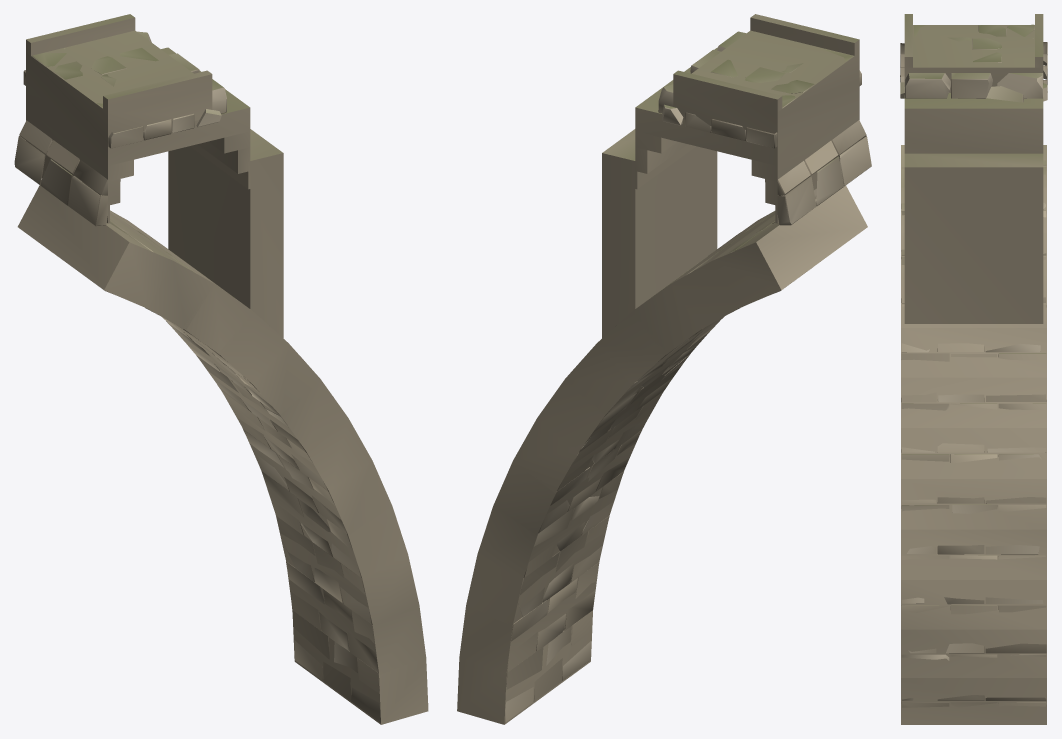
Rendered from bridge_haunch_broken.glb.
3 views of the same model, side by side, from view 1: azimuth 30°, elevation 25°; view 2: azimuth 150°, elevation 25°; view 3: azimuth 270°, elevation 25° (orthographic). The views are drawn at different scales.
Visible parts, largest first — view 1: bridge_haunch_broken_far, bridge_haunch_broken; view 2: bridge_haunch_broken_far, bridge_haunch_broken; view 3: bridge_haunch_broken_far, bridge_haunch_broken.
Part boxes in pixels (<box>): bridge_haunch_broken_far: <box>17,14,428,724</box>; bridge_haunch_broken: <box>14,31,380,722</box>; bridge_haunch_broken_far: <box>457,14,867,724</box>; bridge_haunch_broken: <box>504,31,871,722</box>; bridge_haunch_broken_far: <box>901,14,1046,724</box>; bridge_haunch_broken: <box>900,24,1047,707</box>.
Size of the model in its own units: 34.89 by 69.52 by 15.99.
